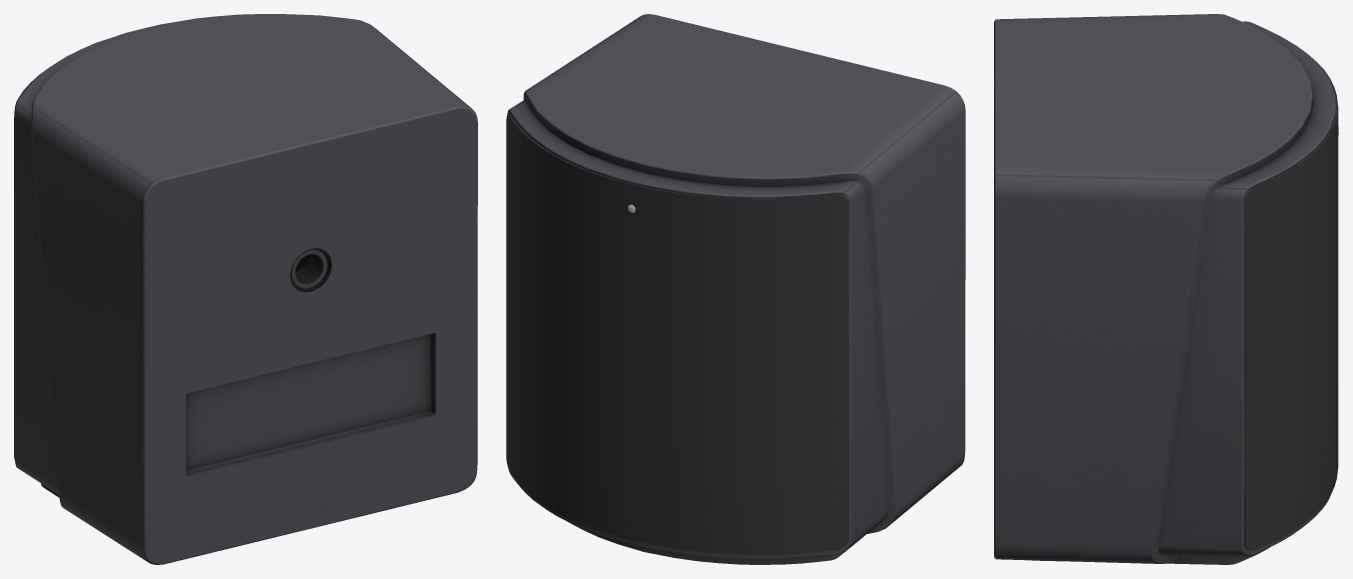
File: Valve_Basestation.fbx
3 renders of one model, left to right at view 1: azimuth 30°, elevation 25°; view 2: azimuth 150°, elevation 25°; view 3: azimuth 270°, elevation 25°, orthographic.
Visible parts, largest first — view 1: Valve_Basestation; view 2: Valve_Basestation; view 3: Valve_Basestation.
Boxes of the visible parts, <box> form: Valve_Basestation: <box>14,14,477,564</box>; Valve_Basestation: <box>506,14,965,564</box>; Valve_Basestation: <box>994,14,1338,564</box>.
Size of the model in its own units: 0.0756 by 0.08 by 0.0631.
